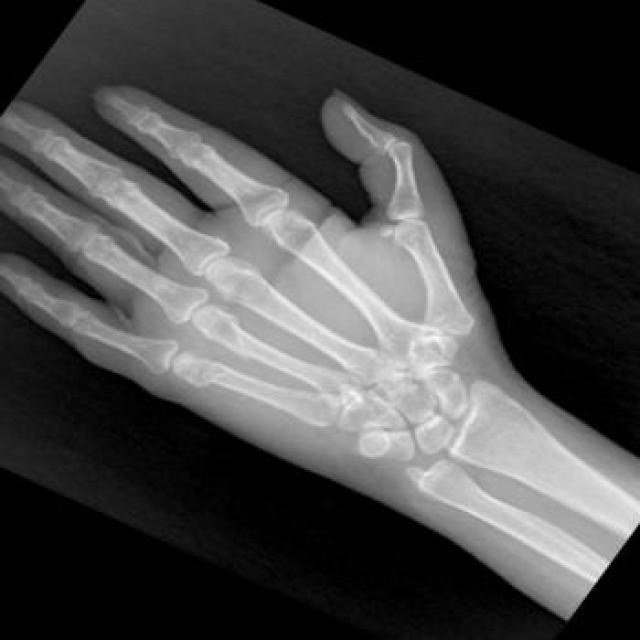Fracture: (225, 318, 250, 358), (199, 364, 229, 388)
